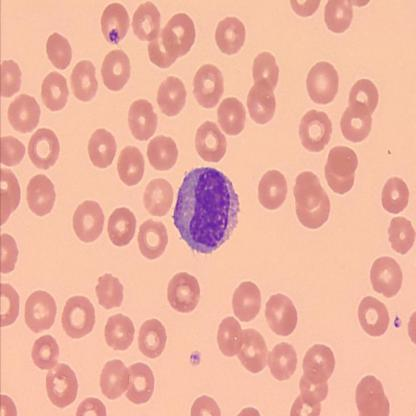Atypical lymphocyte: (170, 163, 244, 261)
